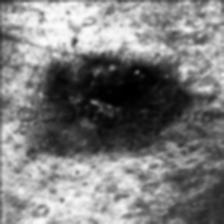Potentially Malignant Skin Tumors: (40, 56, 191, 148)
